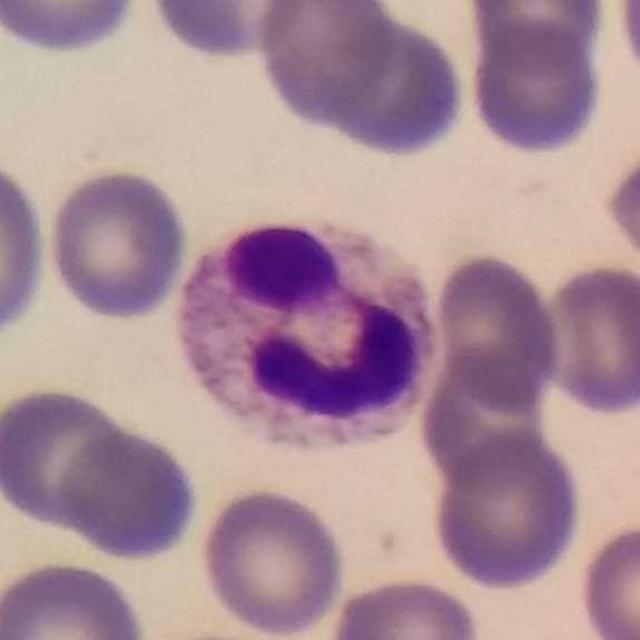Neutrophil: (162, 204, 448, 468)
RBC: (428, 426, 586, 594), (304, 6, 468, 162), (42, 165, 193, 324), (196, 484, 349, 639), (0, 380, 141, 539), (430, 248, 566, 412), (415, 346, 554, 494), (56, 425, 202, 564), (251, 0, 400, 132), (464, 23, 608, 157), (534, 259, 640, 421), (0, 556, 150, 640), (143, 0, 316, 62), (325, 573, 485, 640), (463, 0, 611, 68), (0, 148, 51, 345), (1, 0, 145, 58), (575, 518, 639, 640), (601, 141, 640, 275), (613, 1, 640, 87)
